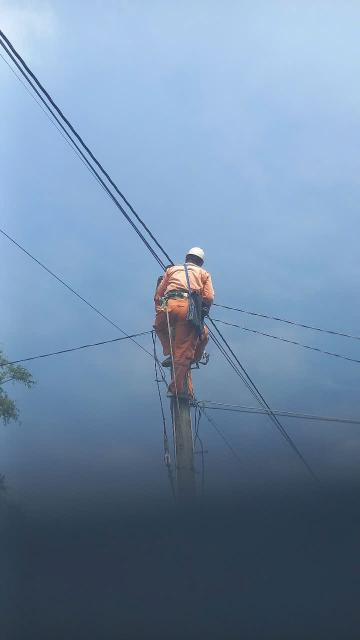harness: (156, 278, 208, 308)
helmet: (181, 242, 210, 268)
shoes: (164, 385, 202, 404), (160, 353, 179, 368)
